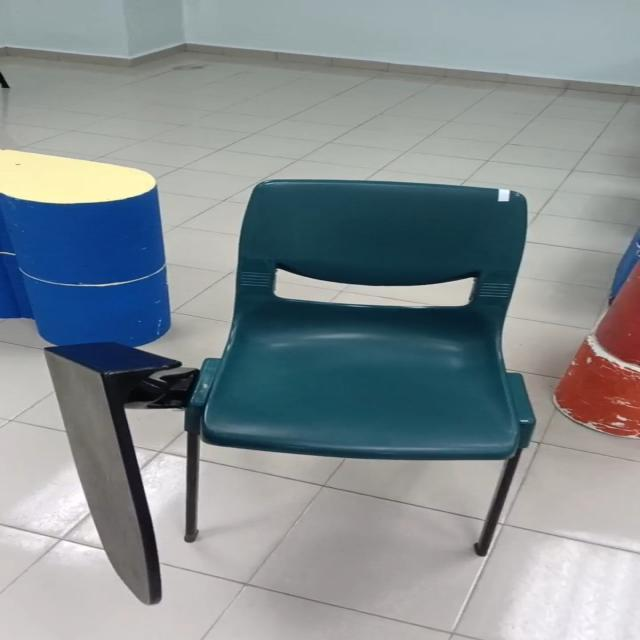sandalye: (185, 180, 534, 556)
